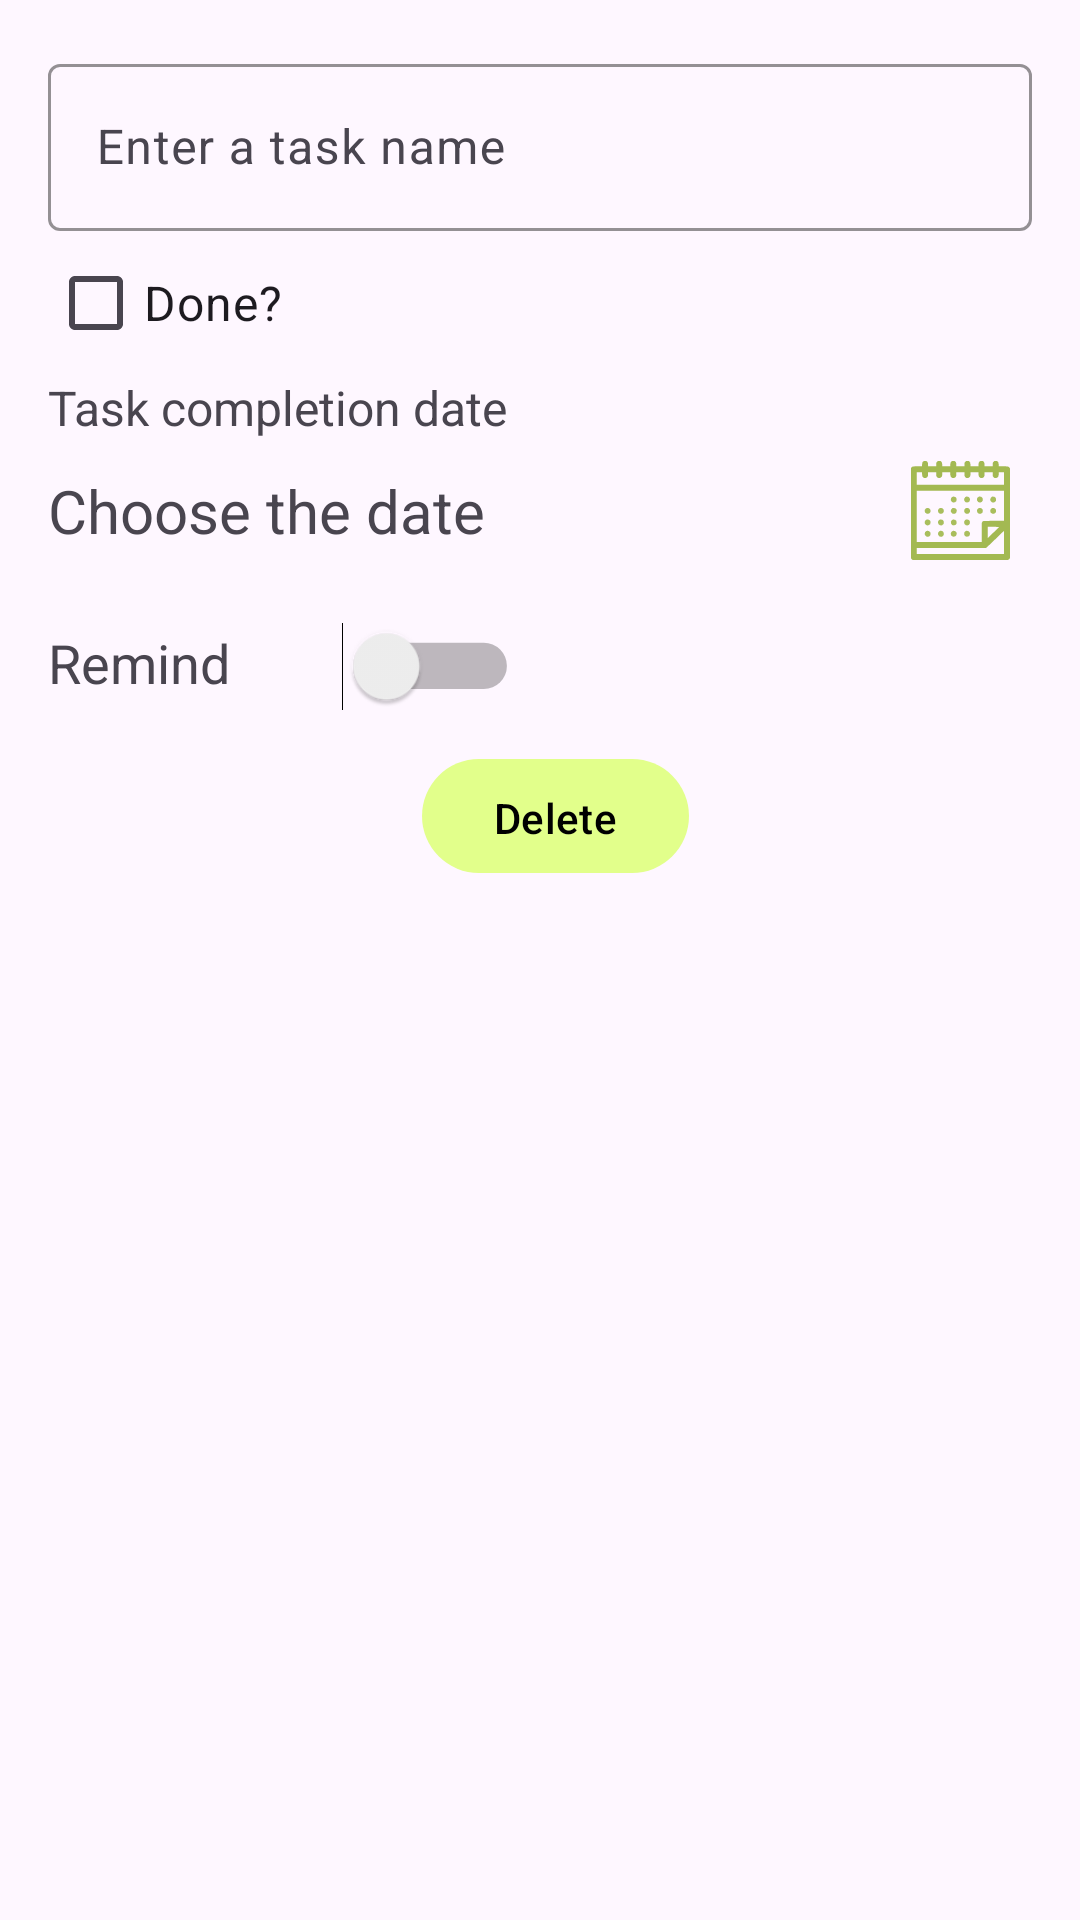

Locate icon controls on the screen. Image size 1080w x 1920h, boxes as bbox=[x1, y1, x2, y2].
calendar: bbox=[911, 461, 1010, 560]
